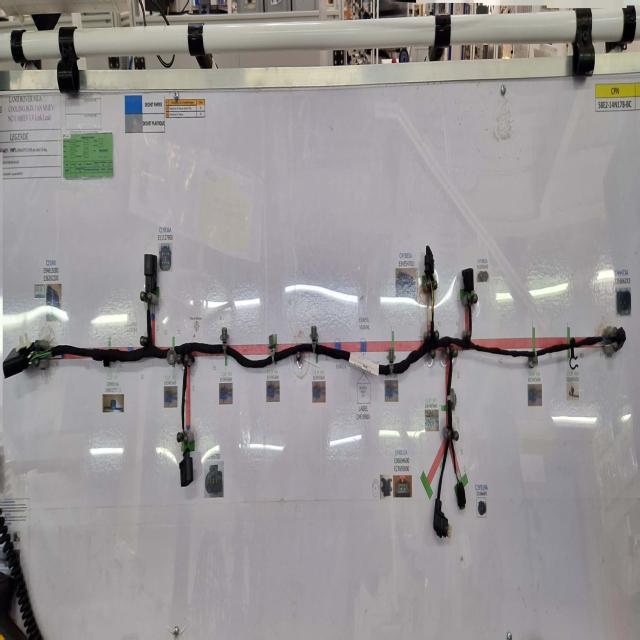Clip: (166, 331, 178, 370), (395, 300, 405, 338), (569, 337, 578, 374), (277, 283, 285, 317), (320, 275, 328, 305), (221, 323, 228, 357), (529, 345, 539, 367), (105, 357, 113, 371)
Connector: (0, 343, 29, 380), (140, 253, 158, 307), (433, 494, 451, 538), (180, 448, 194, 492), (424, 239, 435, 283), (455, 476, 467, 513), (461, 266, 474, 293), (620, 323, 627, 347)
Gape: (26, 338, 54, 364), (144, 302, 154, 343), (588, 336, 610, 354), (429, 277, 434, 329), (186, 416, 194, 448), (462, 446, 470, 459)
Info: (358, 309, 389, 332)
MHEV_N11_Cable: (170, 306, 617, 529), (25, 328, 170, 368)
